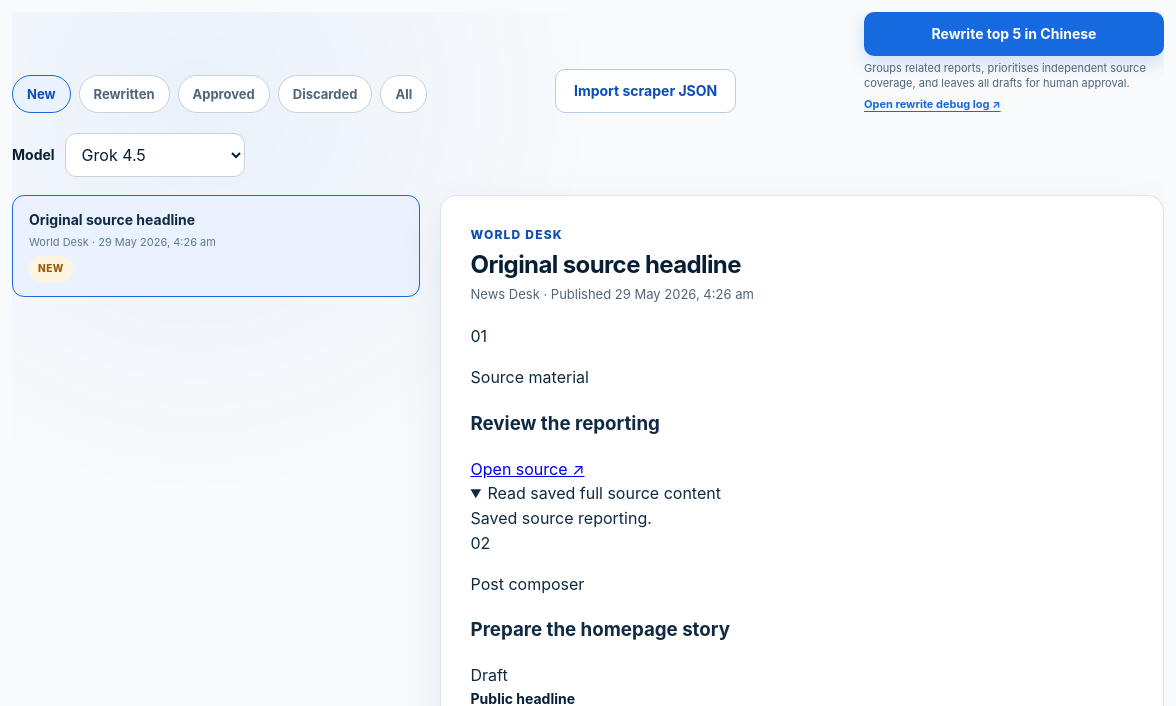
Scenario: PipelineWorkspace post composer › makes partial Top 5 failures explicit in the success notice
Expected: the heading "Original source headline" is shown, [470, 250, 754, 280]
Step 1. Click the button "Rewrite top 5 in Chinese" → (1014, 34), box [864, 12, 1164, 56]
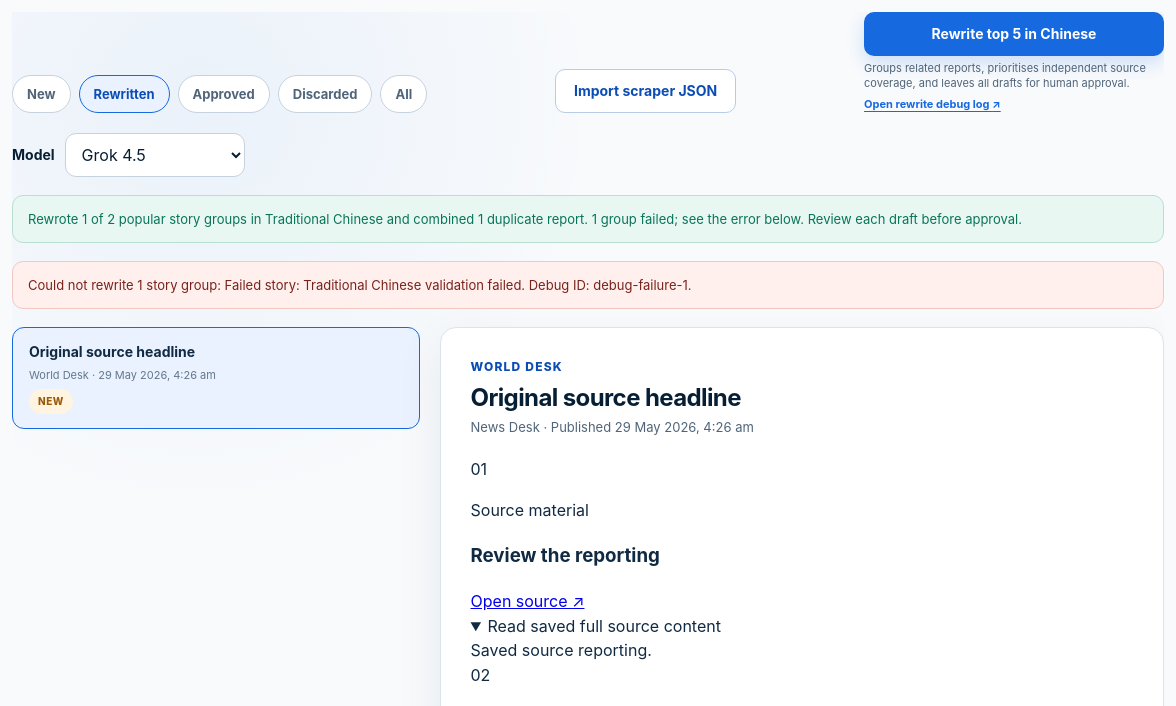
Result: the text "1 group failed; see the error below" is shown at [28, 211, 1022, 227]
